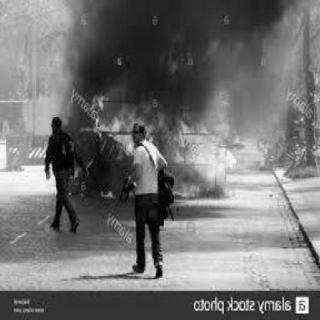Fire: (61, 31, 225, 203)
